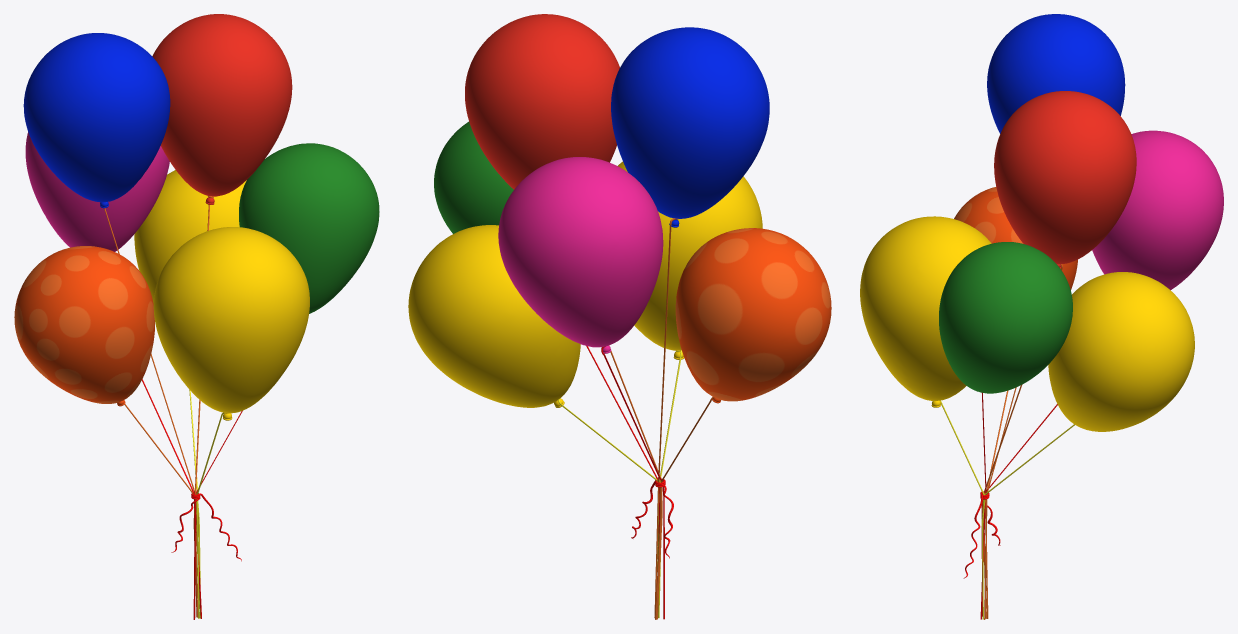
Rendered from Group of Balloons.glb.
3 renders of one model, left to right at view 1: azimuth 30°, elevation 25°; view 2: azimuth 150°, elevation 25°; view 3: azimuth 270°, elevation 25°, orthographic. The views are drawn at different scales.
Visible parts, largest first — view 1: group_of_balloons.1; view 2: group_of_balloons.1; view 3: group_of_balloons.1.
Part boxes in pixels (<box>): group_of_balloons.1: <box>14,14,379,619</box>; group_of_balloons.1: <box>408,14,831,619</box>; group_of_balloons.1: <box>860,14,1223,619</box>.
Size of the model in its own units: 0.5557 by 0.8748 by 0.5094.
Materials: 1 (1 with a texture image).
